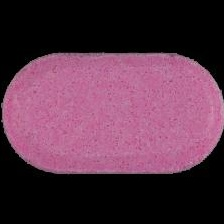68382-196: (0, 0, 224, 224)
